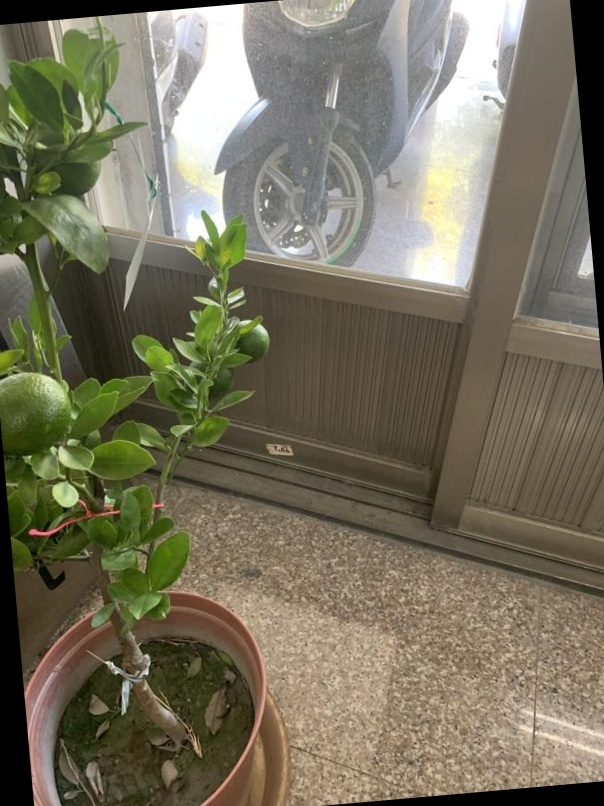Tangerine: (1, 370, 73, 458), (234, 312, 270, 363)
